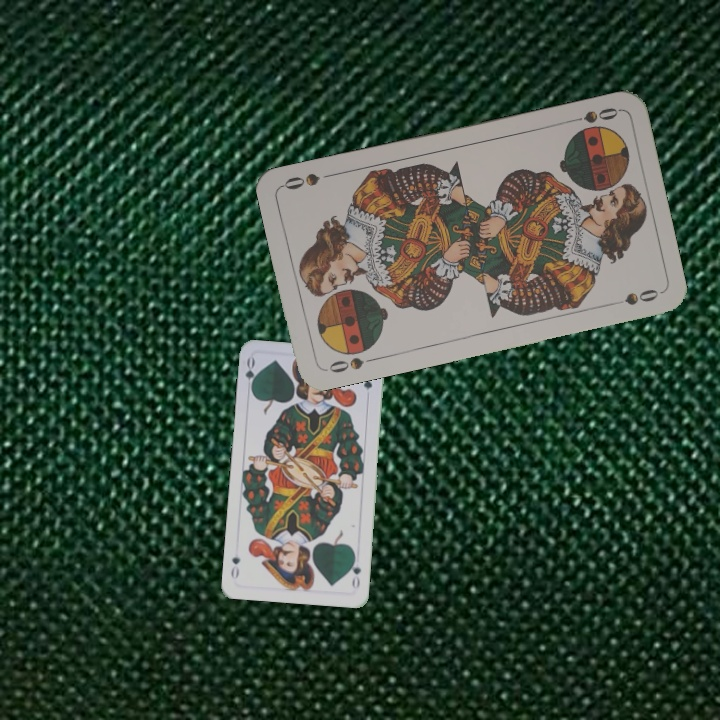GO: (241, 354, 260, 395), (346, 551, 364, 591)
SO: (562, 103, 621, 126), (321, 353, 379, 376)
